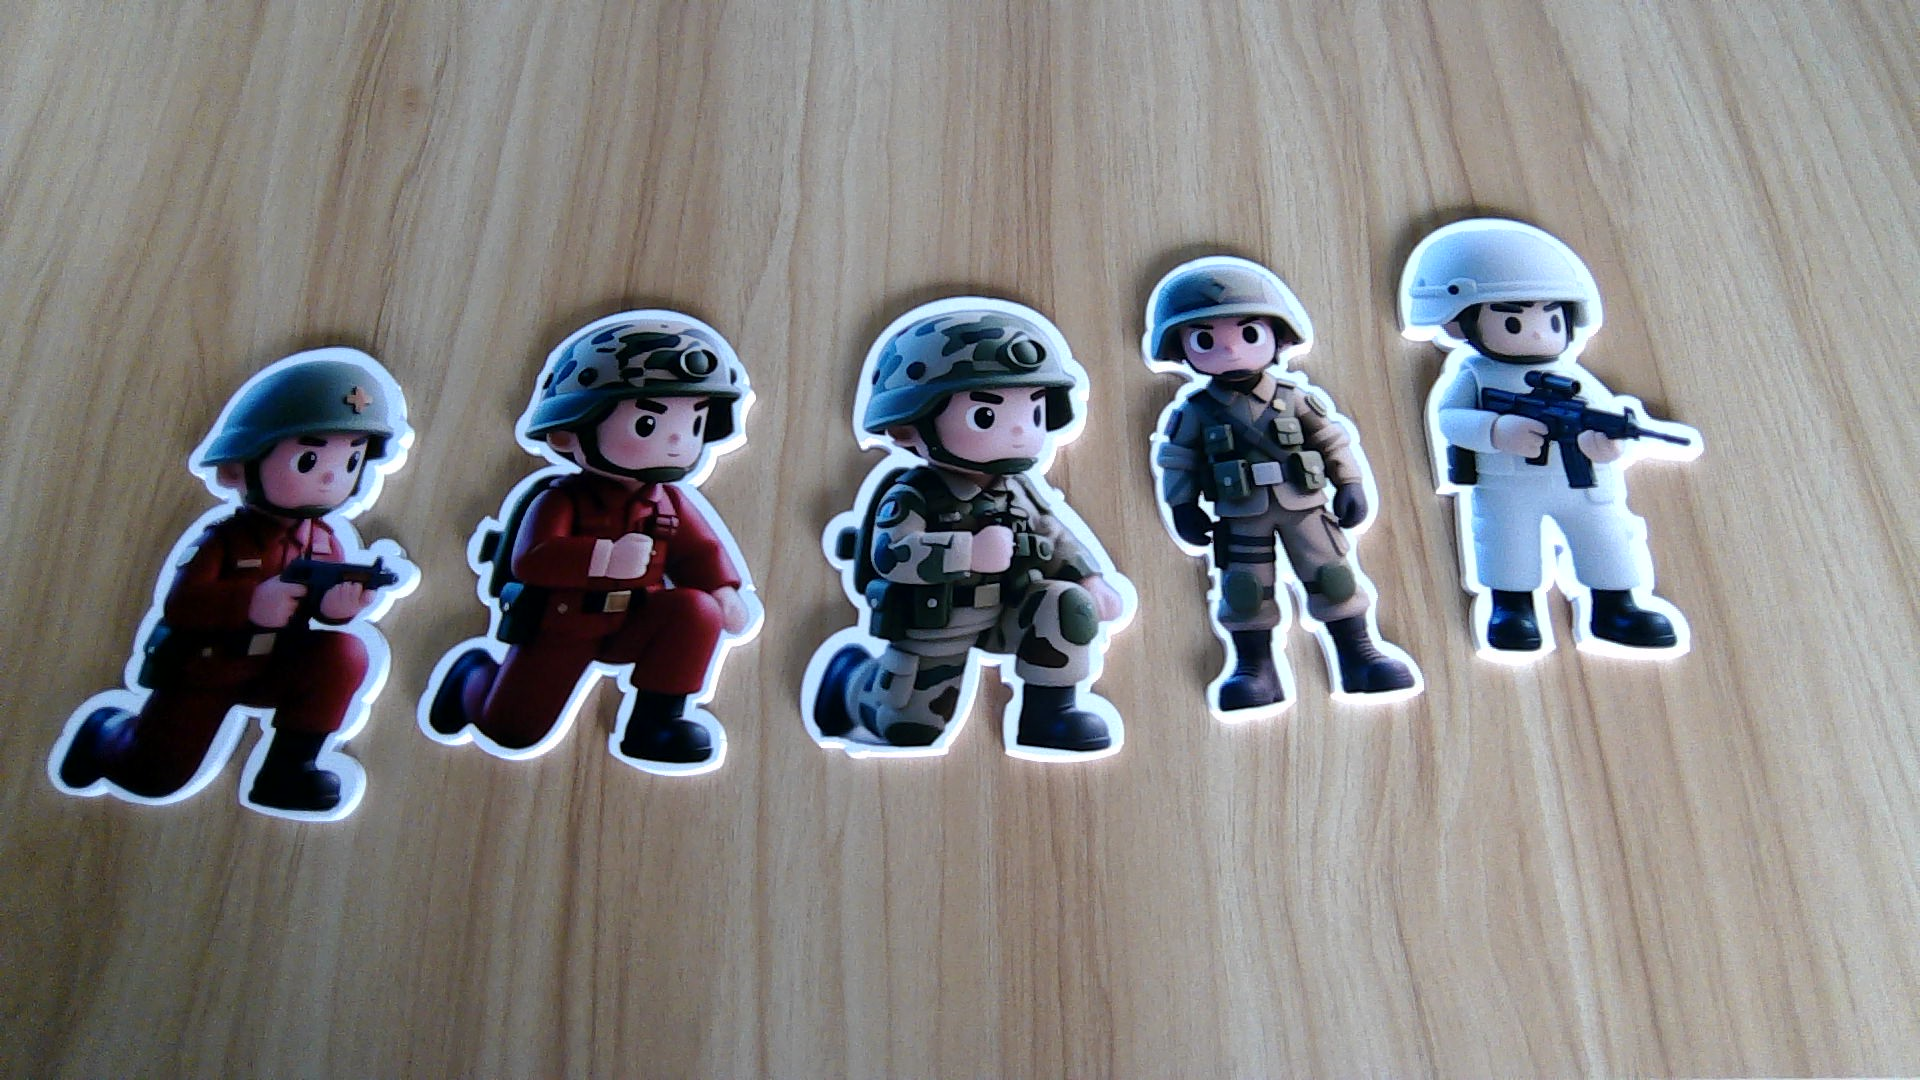人质: (1424, 357, 1712, 666)
友军: (796, 471, 1133, 774), (1149, 375, 1429, 713)
敌人1: (44, 516, 410, 828), (415, 471, 767, 783)
